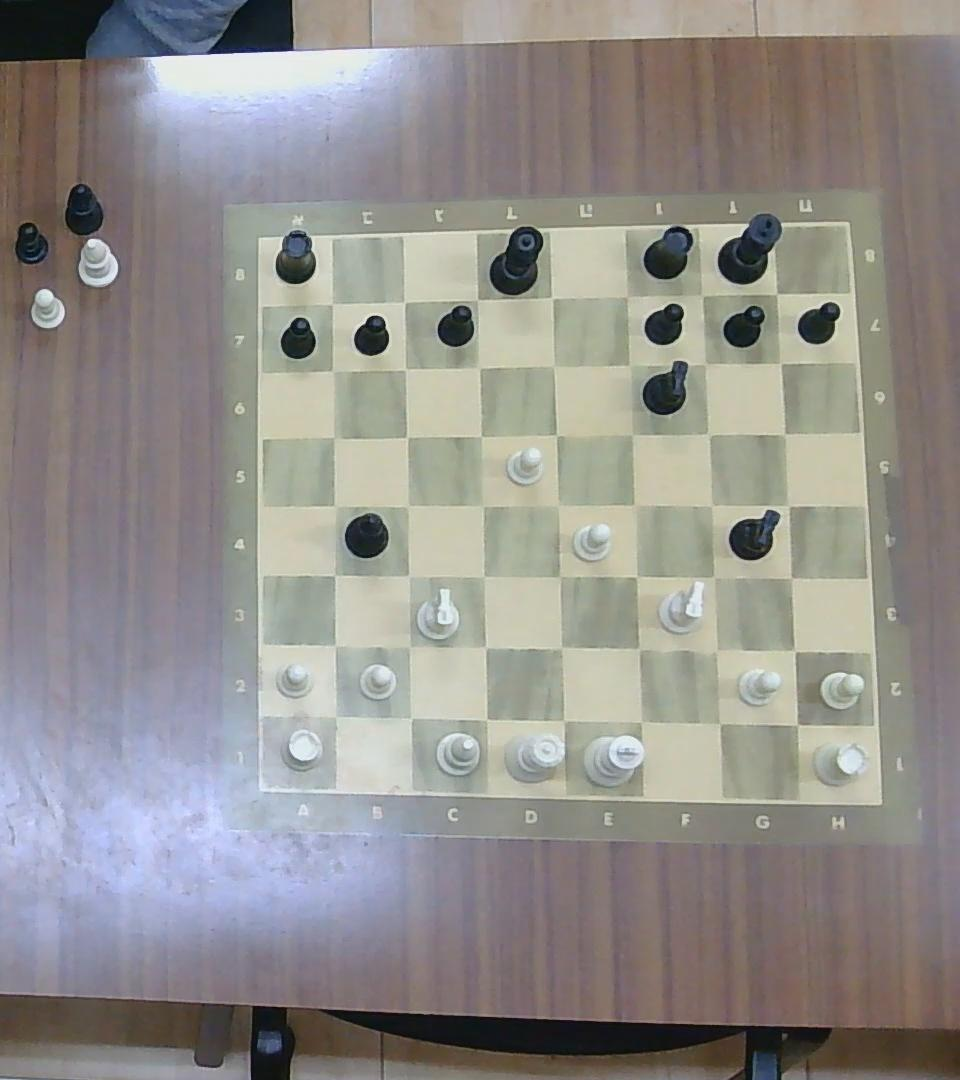xcorner: (701, 705, 735, 739), (622, 631, 654, 664), (545, 631, 577, 664), (624, 704, 656, 736), (780, 706, 812, 738), (547, 704, 578, 736), (470, 703, 501, 734), (394, 701, 424, 732), (700, 636, 731, 666), (778, 636, 809, 666), (776, 561, 806, 592), (470, 631, 500, 661), (320, 700, 350, 730), (545, 561, 574, 592), (621, 562, 651, 591), (393, 631, 423, 660), (320, 629, 349, 659), (698, 562, 728, 591), (469, 562, 498, 591), (393, 561, 423, 589), (543, 490, 572, 518), (617, 419, 645, 448), (469, 490, 497, 518), (320, 560, 348, 587), (543, 420, 571, 447), (621, 491, 650, 517), (615, 351, 644, 377), (393, 491, 421, 517), (538, 285, 566, 311), (321, 491, 349, 517), (698, 491, 725, 517), (774, 491, 801, 517), (614, 282, 641, 308), (317, 291, 345, 316), (467, 422, 493, 448), (393, 422, 419, 448), (319, 422, 345, 448), (772, 420, 798, 446), (319, 356, 344, 382), (540, 353, 566, 378), (696, 421, 721, 446), (693, 350, 718, 374), (465, 286, 490, 310), (765, 281, 790, 305), (467, 354, 491, 378), (768, 350, 792, 374), (391, 356, 415, 379), (391, 290, 415, 313), (691, 284, 713, 306)
